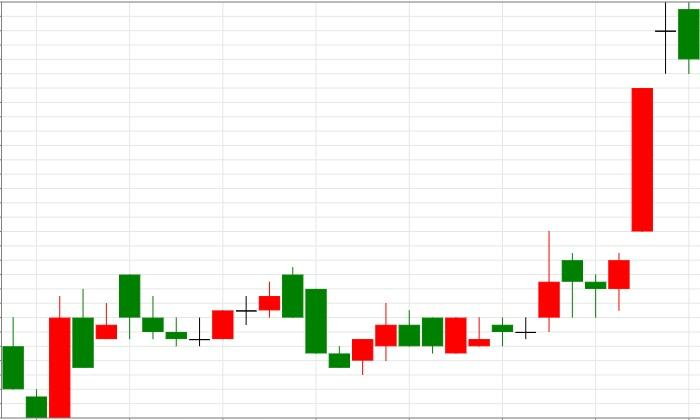bearish_engulfing_fall: (189, 267, 304, 347)
morning_star_rise: (119, 274, 235, 347)
